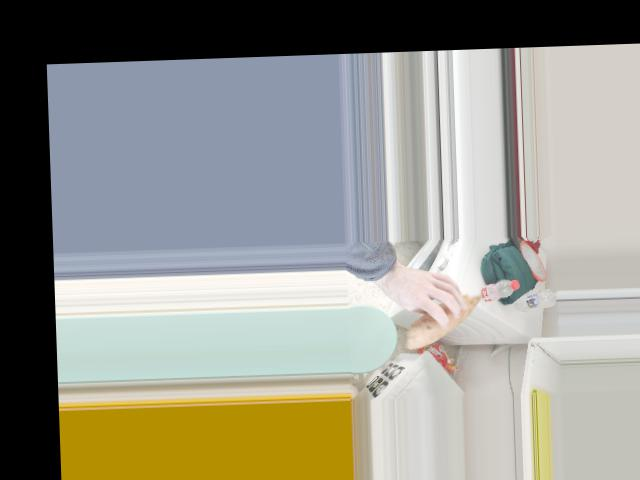sweet_potato: (414, 284, 479, 348)
